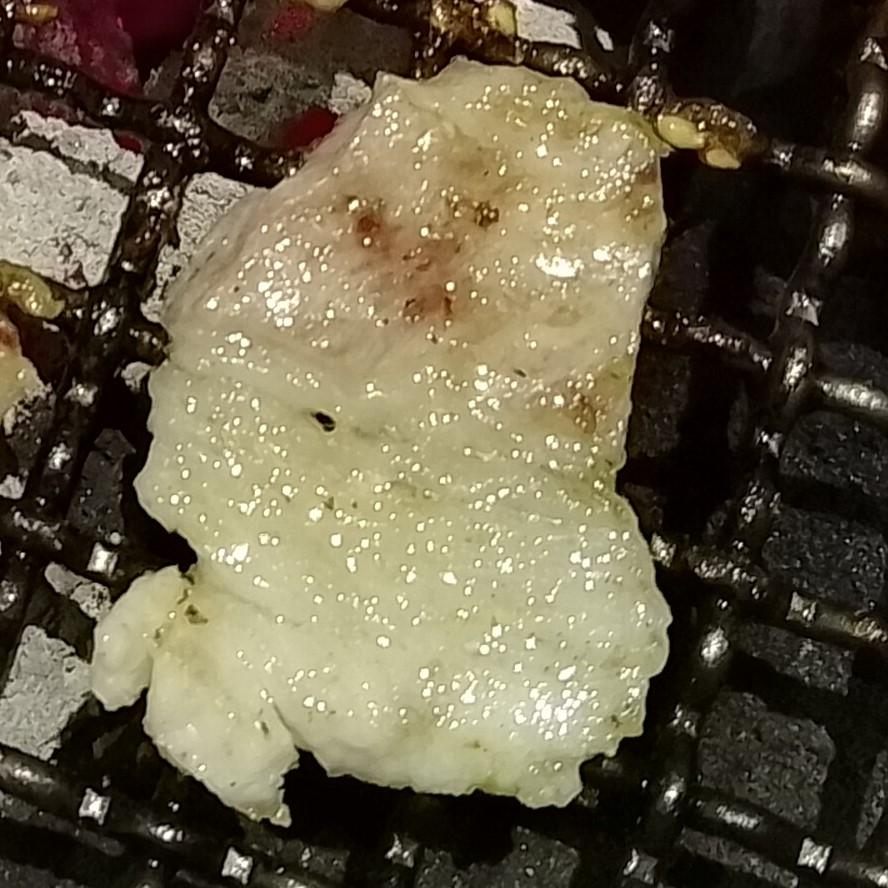Undercooked: (87, 58, 682, 832)
